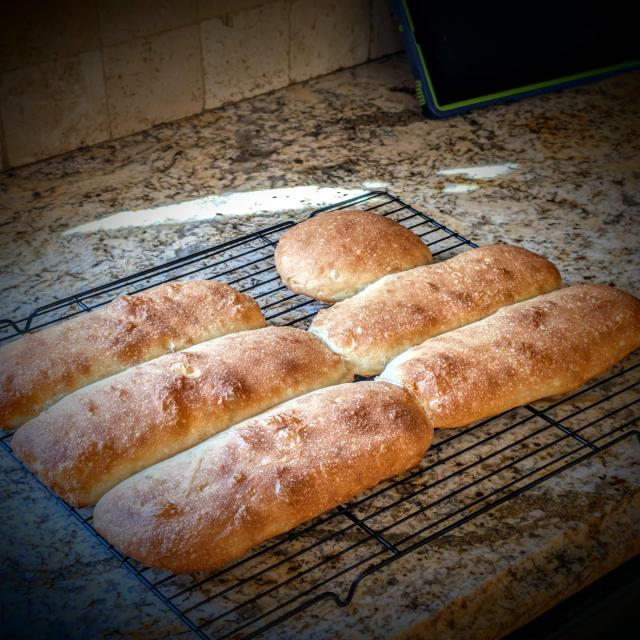Ciabatta: (94, 380, 433, 574), (12, 327, 354, 507), (0, 280, 267, 430), (380, 285, 640, 429), (309, 244, 561, 376), (274, 209, 434, 303), (424, 290, 434, 300)
